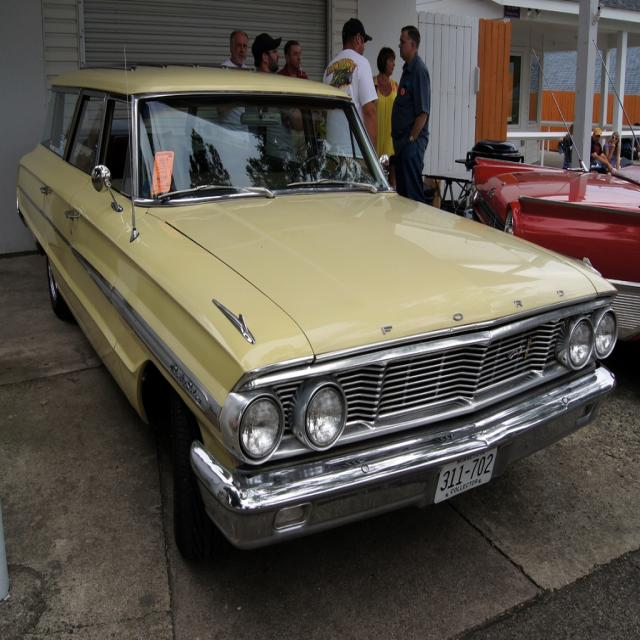car: (13, 45, 619, 580)
